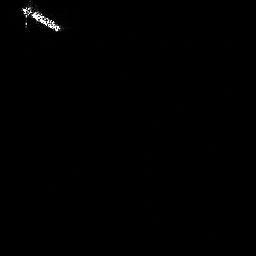ship: (19, 3, 64, 34)
